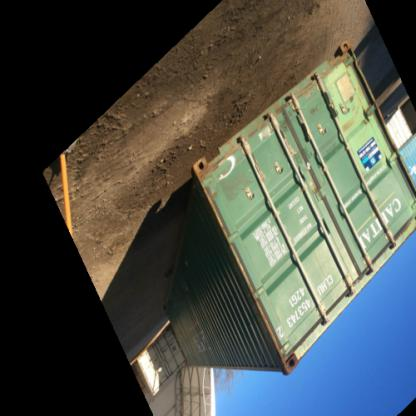Damage: (334, 64, 360, 124), (275, 112, 297, 138), (248, 133, 274, 154), (302, 107, 334, 121)
